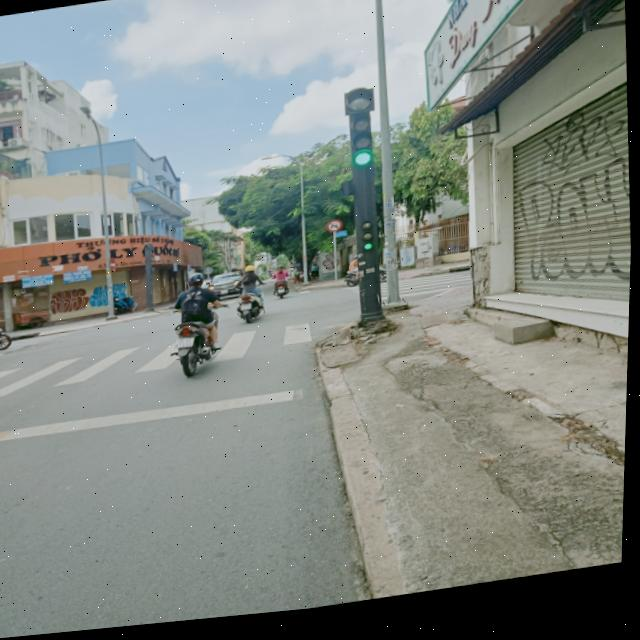Green: (348, 119, 385, 180), (357, 224, 385, 265)
